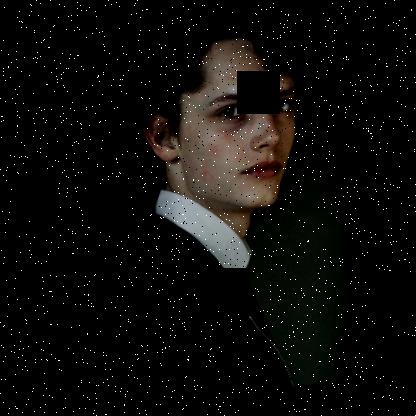Male: (140, 33, 306, 226)
